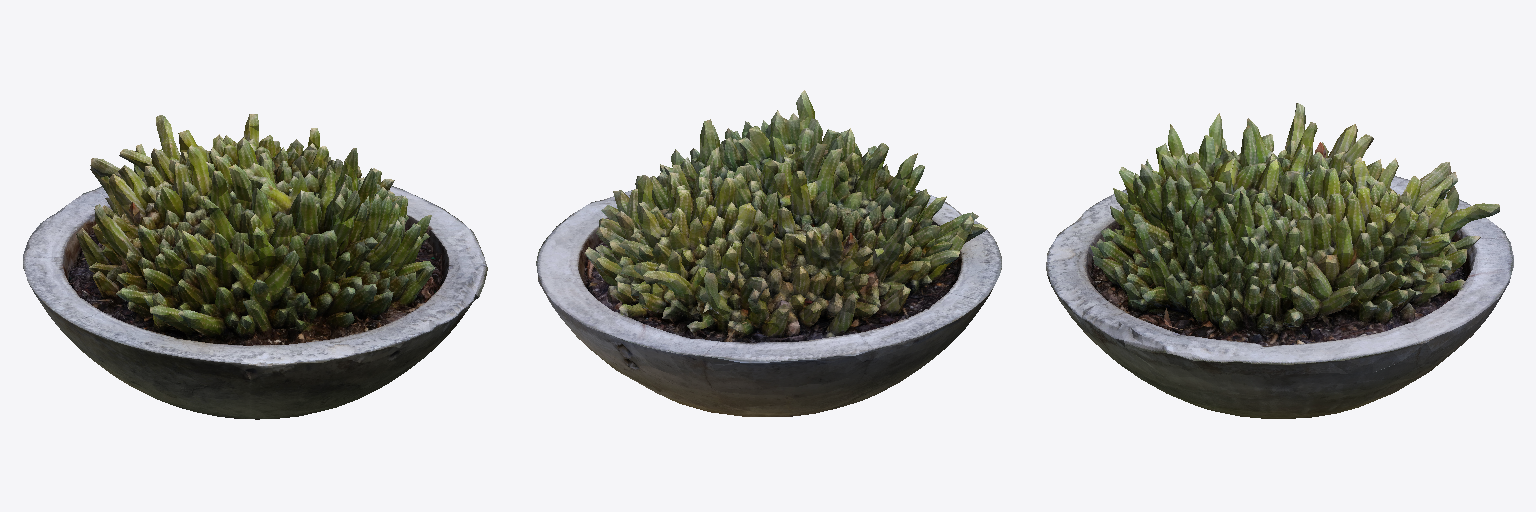
The picture shows the model from 3 angles: view 1: azimuth 30°, elevation 25°; view 2: azimuth 150°, elevation 25°; view 3: azimuth 270°, elevation 25°; orthographic projection.
Visible parts, largest first — view 1: CACTUS_CONCRETE_POT_10K_CACTUS_CONCRETE_POT_2000K.001; view 2: CACTUS_CONCRETE_POT_10K_CACTUS_CONCRETE_POT_2000K.001; view 3: CACTUS_CONCRETE_POT_10K_CACTUS_CONCRETE_POT_2000K.001.
Part boxes in pixels (x1,y1,x2,y2): CACTUS_CONCRETE_POT_10K_CACTUS_CONCRETE_POT_2000K.001: (23,114,487,419); CACTUS_CONCRETE_POT_10K_CACTUS_CONCRETE_POT_2000K.001: (536,90,1001,416); CACTUS_CONCRETE_POT_10K_CACTUS_CONCRETE_POT_2000K.001: (1046,103,1513,418).
Bounding box in the file's own units: 0.3882 × 0.205 × 0.3921.
1 materials, 1 textured.